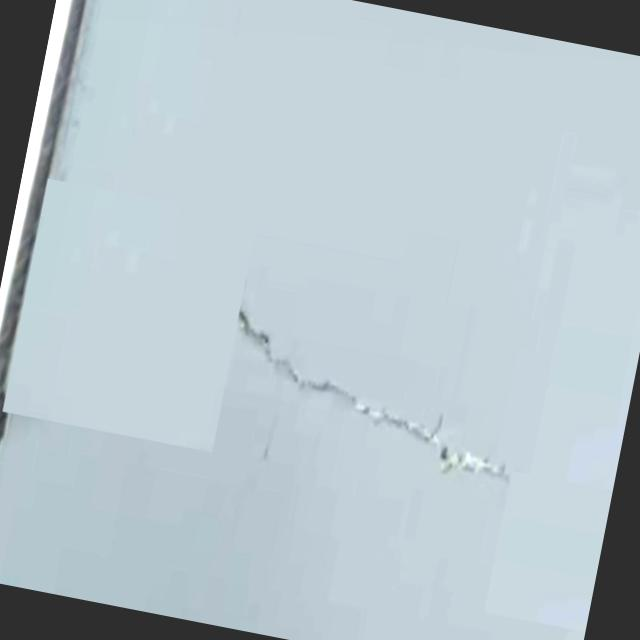crack: (217, 309, 538, 482)
